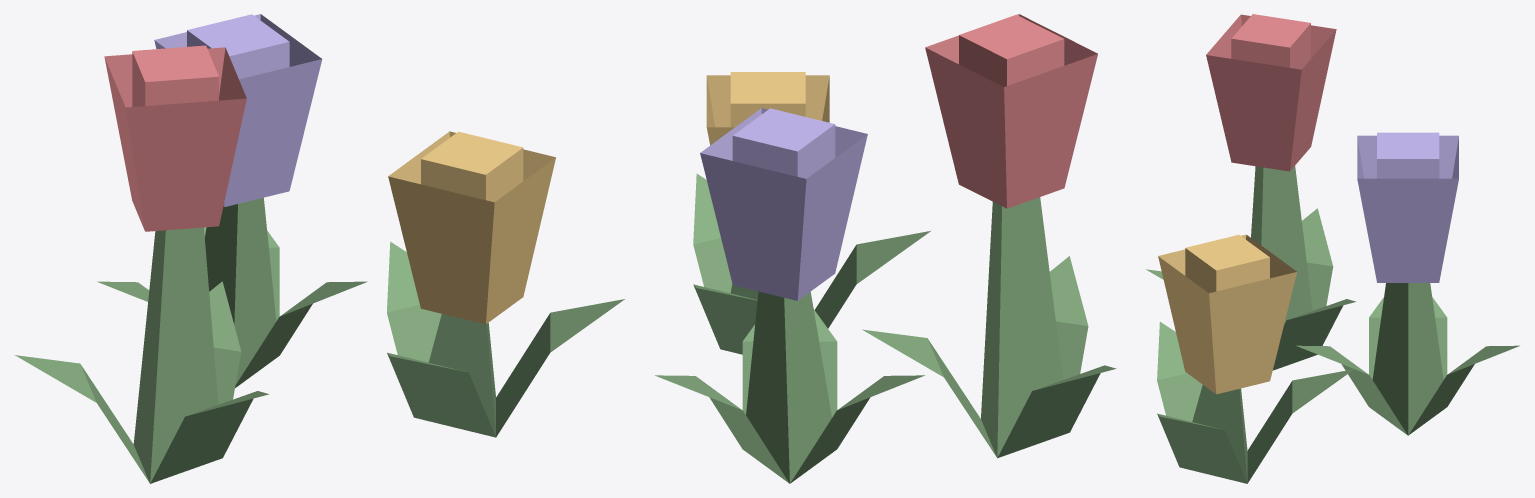
File: camp-flowers-v1.glb
3 views of the same model, side by side, from view 1: azimuth 30°, elevation 25°; view 2: azimuth 150°, elevation 25°; view 3: azimuth 270°, elevation 25° (orthographic). The views are drawn at different scales.
Parts seen in each view (by area): view 1: camp_flowers_v1_0, camp_flowers_v1_1, camp_flowers_v1_2; view 2: camp_flowers_v1_0, camp_flowers_v1_2, camp_flowers_v1_1; view 3: camp_flowers_v1_1, camp_flowers_v1_2, camp_flowers_v1_0.
Part boxes in pixels (x1,y1,x2,y2): camp_flowers_v1_0: (15, 45, 268, 483); camp_flowers_v1_1: (387, 131, 624, 437); camp_flowers_v1_2: (97, 14, 367, 387); camp_flowers_v1_0: (862, 14, 1116, 458); camp_flowers_v1_2: (655, 108, 924, 483); camp_flowers_v1_1: (693, 72, 931, 354); camp_flowers_v1_1: (1157, 234, 1353, 483); camp_flowers_v1_2: (1296, 132, 1519, 435); camp_flowers_v1_0: (1146, 14, 1356, 370).
Size of the model in its own units: 0.7938 by 0.585 by 0.604.
